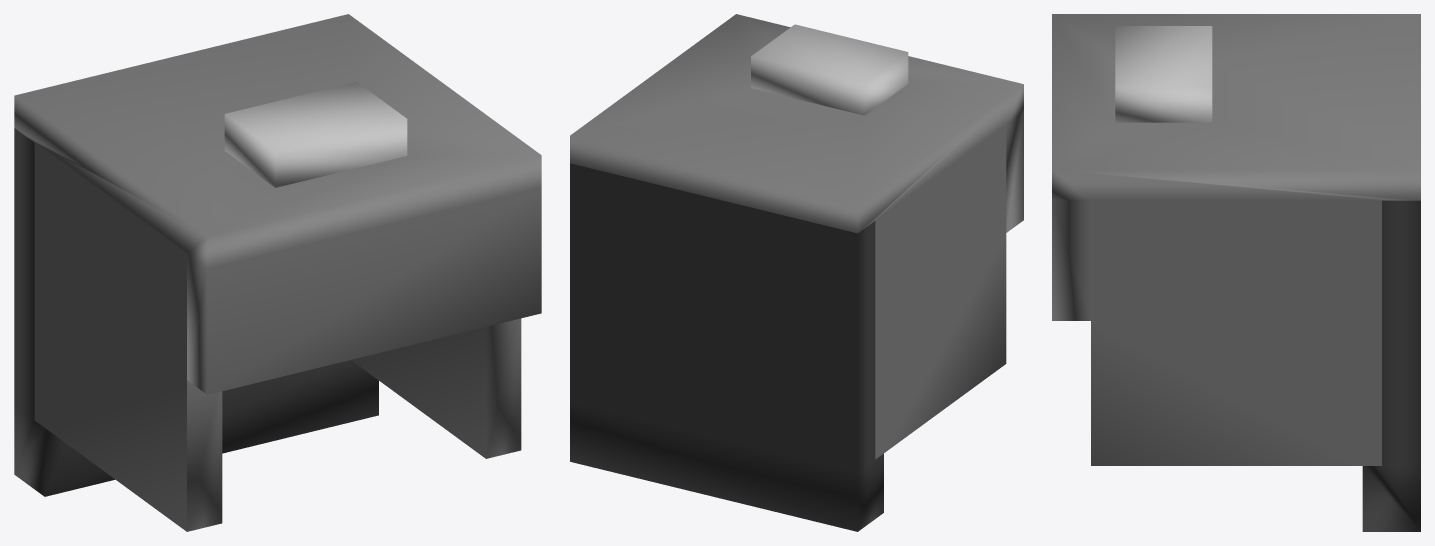
3 views of the same model, side by side, from view 1: azimuth 30°, elevation 25°; view 2: azimuth 150°, elevation 25°; view 3: azimuth 270°, elevation 25° (orthographic). The views are drawn at different scales.
Visible parts, largest first — view 1: mesh; view 2: mesh; view 3: mesh.
Part boxes in pixels (x1,y1,x2,y2): mesh: (14, 14, 541, 531); mesh: (570, 14, 1023, 531); mesh: (1052, 14, 1420, 531).
Bounding box in the file's own units: 1.52 × 1.81 × 1.52.
Materials: 1 (1 with a texture image).
